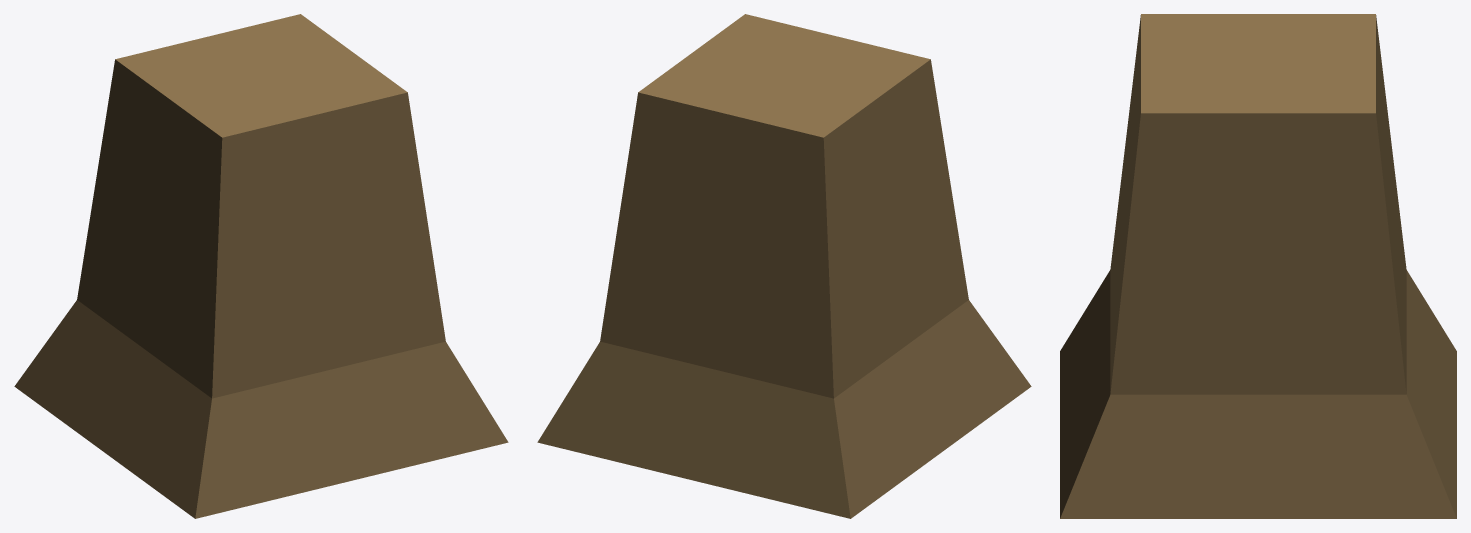
Rendered from Trunk_02.obj.
3 renders of one model, left to right at view 1: azimuth 30°, elevation 25°; view 2: azimuth 150°, elevation 25°; view 3: azimuth 270°, elevation 25°, orthographic. The views are drawn at different scales.
Visible parts, largest first — view 1: Mesh1_Trunk_Model.001; view 2: Mesh1_Trunk_Model.001; view 3: Mesh1_Trunk_Model.001.
Part boxes in pixels (x1,y1,x2,y2): Mesh1_Trunk_Model.001: (14,14,508,518); Mesh1_Trunk_Model.001: (537,14,1031,518); Mesh1_Trunk_Model.001: (1060,14,1456,518).
Size of the model in its own units: 0.8037 by 0.83 by 0.8037.
